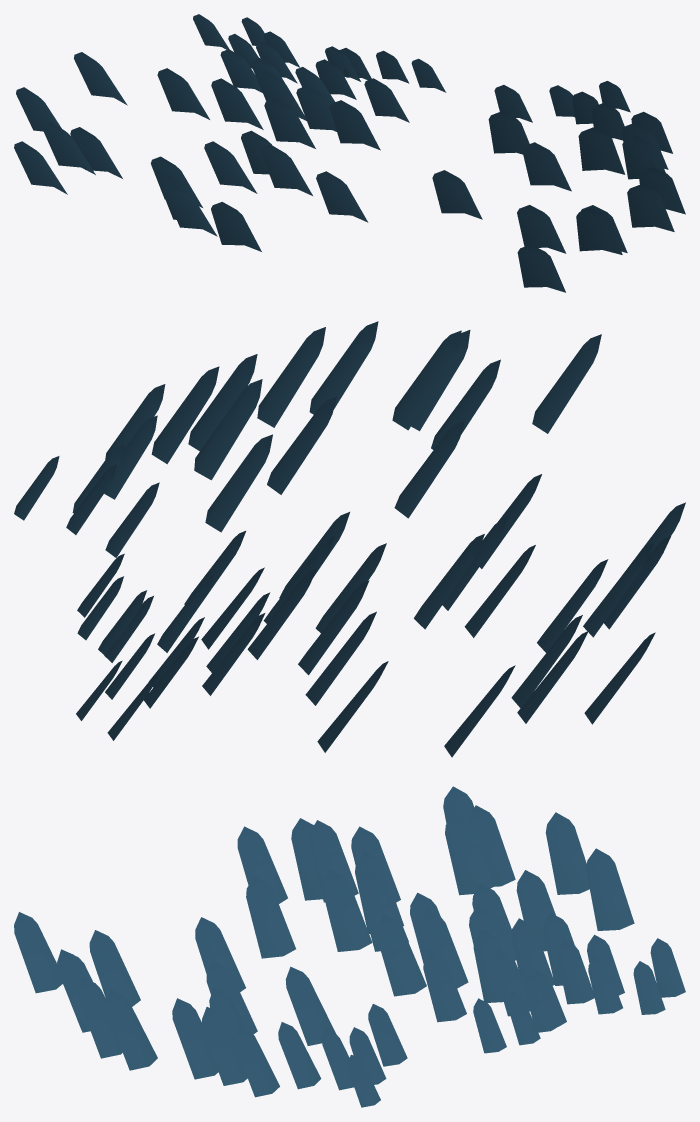
File: Grass02.fbx
3 views of the same model, one above another, from view 1: azimuth 30°, elevation 25°; view 2: azimuth 150°, elevation 25°; view 3: azimuth 270°, elevation 25° (orthographic). The views are drawn at different scales.
Visible parts, largest first — view 1: Grass; view 2: Grass; view 3: Grass.
Part boxes in pixels (x1,y1,x2,y2): Grass: (14, 14, 685, 292); Grass: (14, 321, 685, 757); Grass: (14, 786, 685, 1107).
Bounding box in the file's own units: 716 × 87.84 × 799.
1 material, 1 textured.
